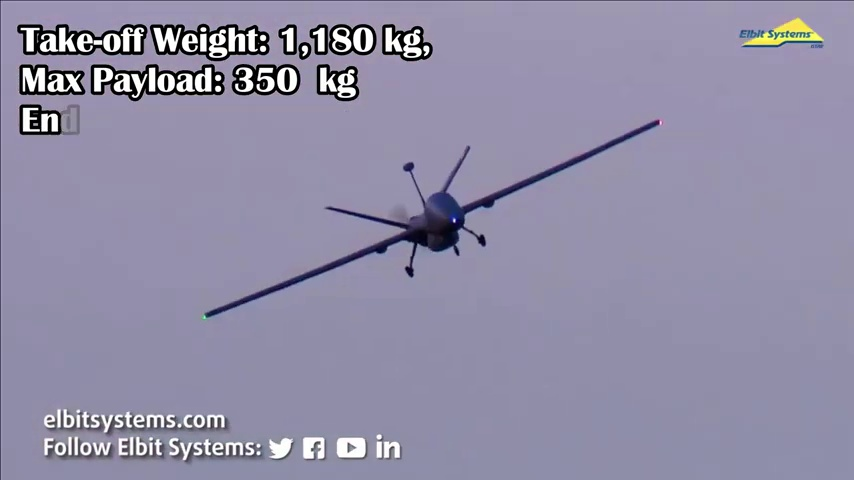military drone: (202, 118, 662, 320)
